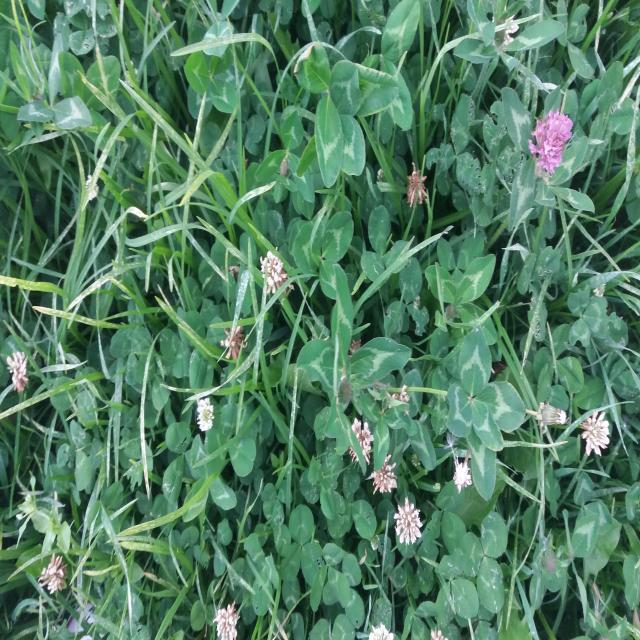Four Leaf Clover: (446, 325, 526, 500)
